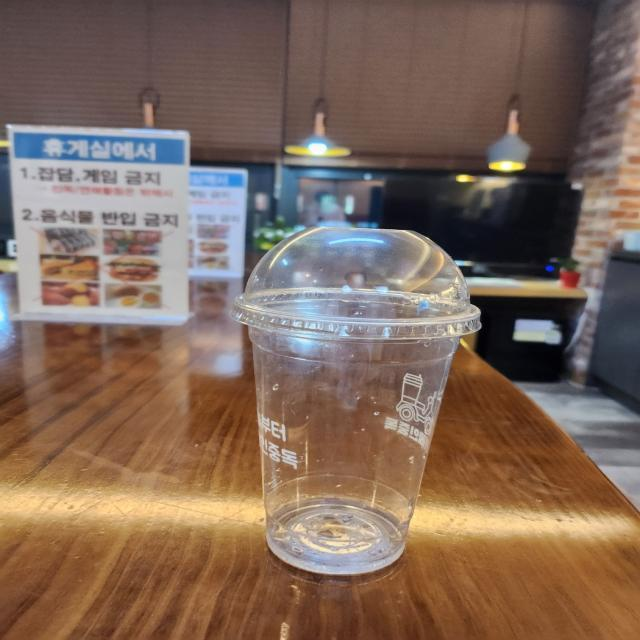plastic_cup_lid: (220, 184, 492, 350)
